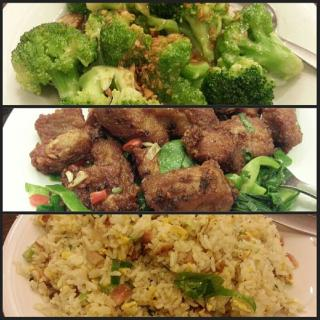Broccoli: (12, 2, 306, 105)
Salad: (18, 104, 318, 211), (9, 0, 306, 106)
